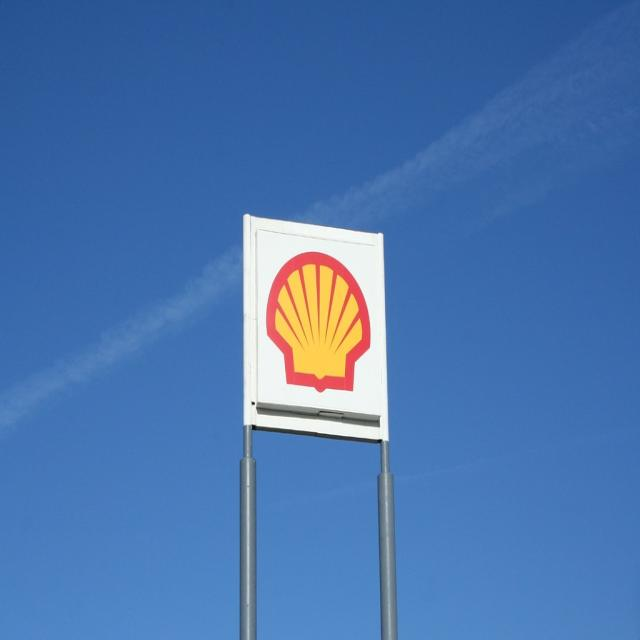shell: (265, 252, 373, 395)
